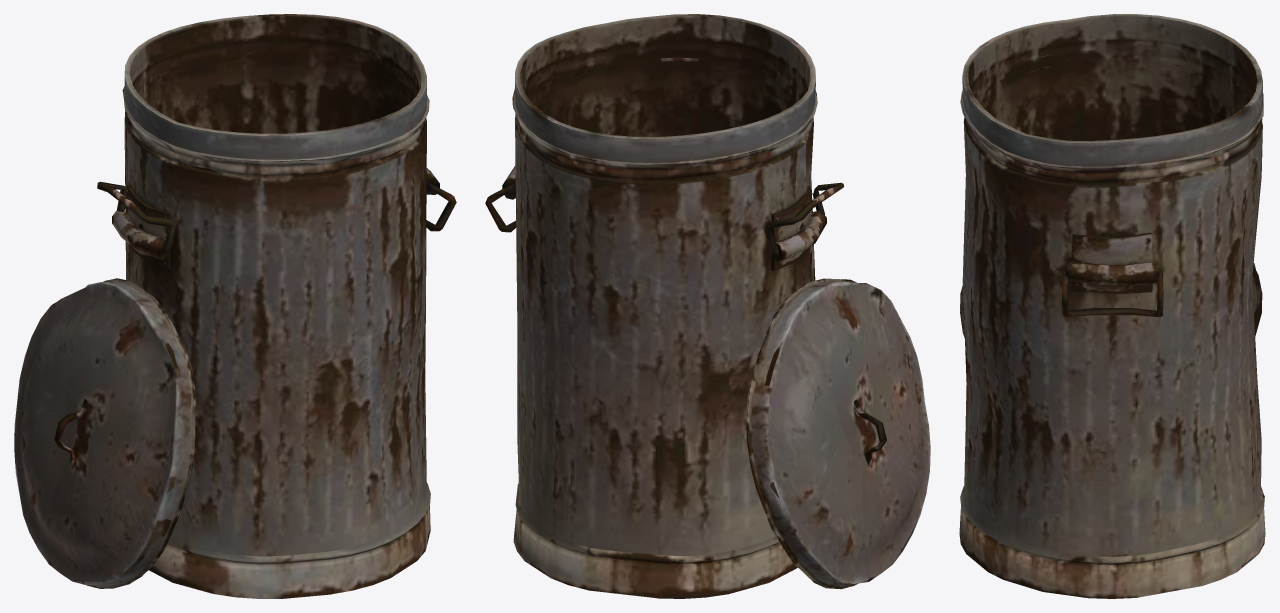
Rendered from metal_trash_can.glb.
3 renders of one model, left to right at view 1: azimuth 30°, elevation 25°; view 2: azimuth 150°, elevation 25°; view 3: azimuth 270°, elevation 25°, orthographic.
Visible parts, largest first — view 1: metal_trash_can_rust; view 2: metal_trash_can_rust; view 3: metal_trash_can_rust.
Part boxes in pixels (x1,y1,x2,y2): metal_trash_can_rust: (14,14,456,598); metal_trash_can_rust: (485,14,930,598); metal_trash_can_rust: (959,14,1265,598).
Size of the model in its own units: 0.7715 by 0.9062 by 0.5482.
1 material, 1 textured.
